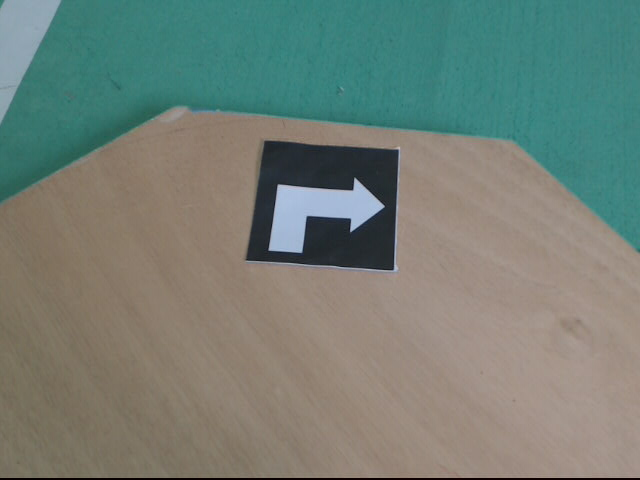right: (247, 138, 403, 273)
